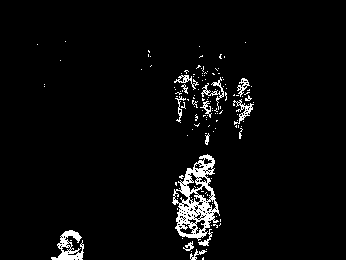person: (171, 154, 221, 260), (200, 69, 229, 148), (230, 76, 255, 145), (172, 68, 195, 125)
